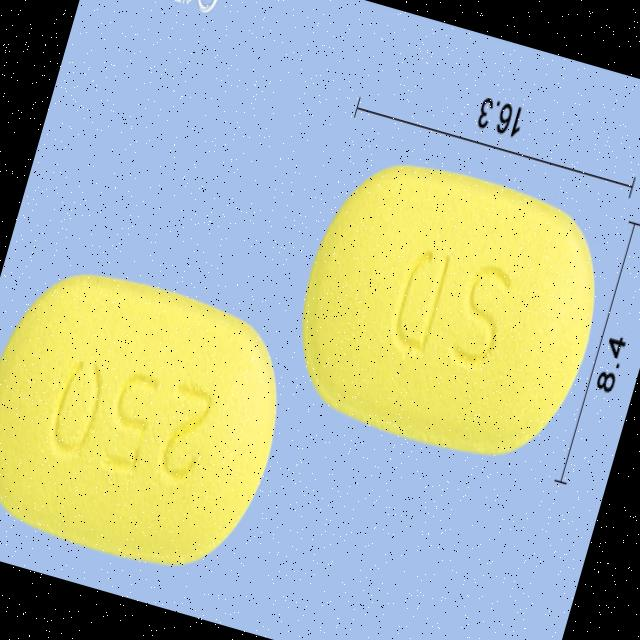Clabio - 500mg: (267, 130, 627, 486), (0, 242, 307, 591)
